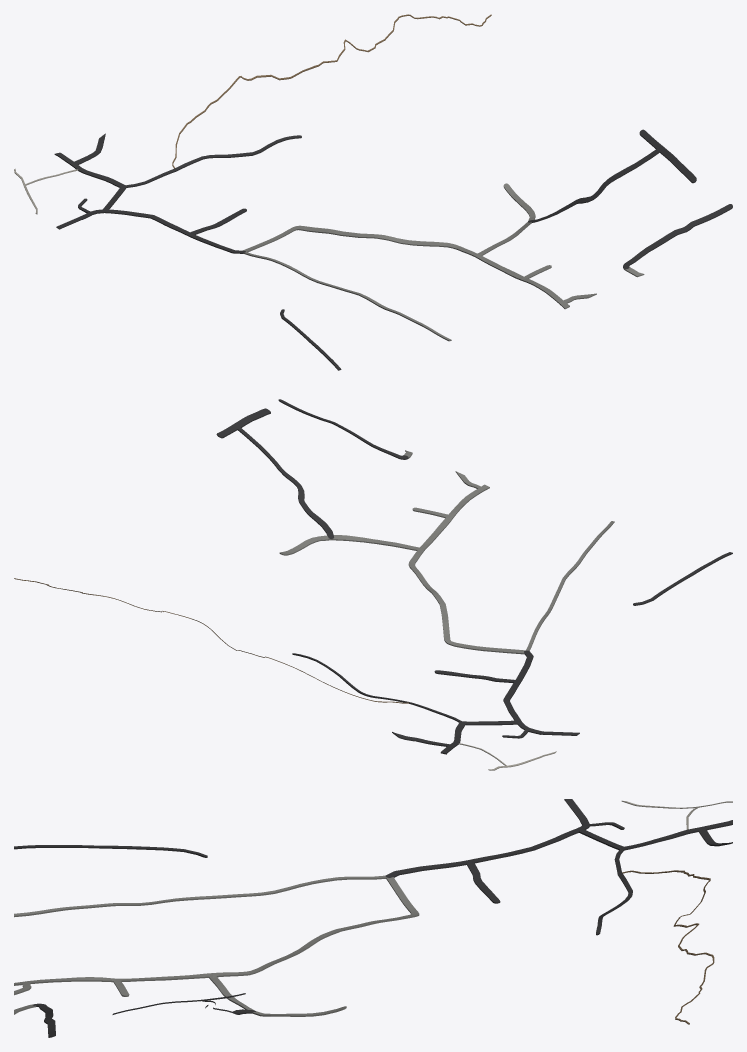
The picture shows the model from 3 angles, top to bottom: view 1: azimuth 30°, elevation 25°; view 2: azimuth 150°, elevation 25°; view 3: azimuth 270°, elevation 25°; orthographic projection. The views are drawn at different scales.
Bounding box in the file's own units: 587 × 94.35 × 583.
